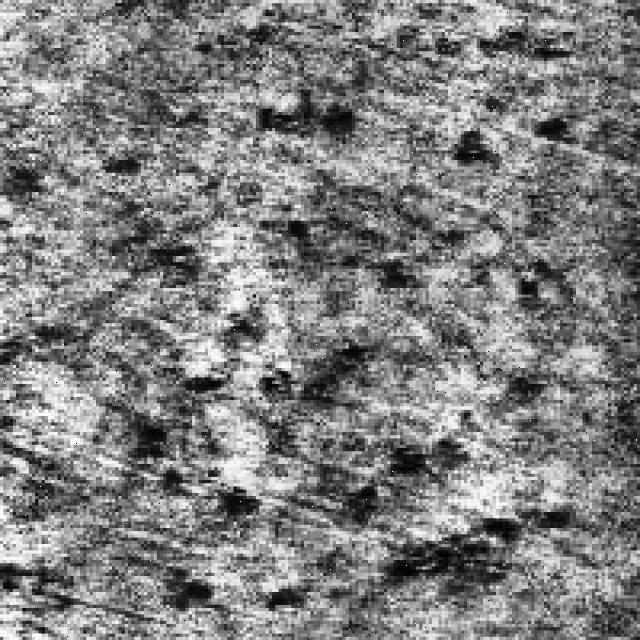Crazing: (223, 396, 582, 612)
